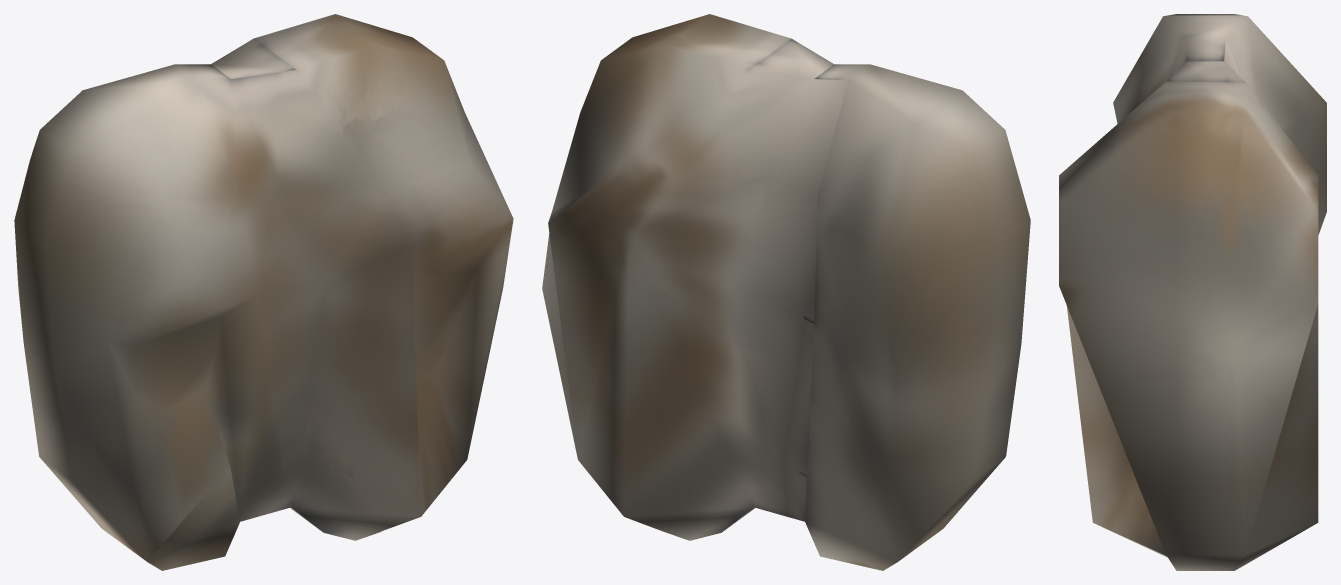
The model's file is Rock06.fbx.
3 renders of one model, left to right at view 1: azimuth 30°, elevation 25°; view 2: azimuth 150°, elevation 25°; view 3: azimuth 270°, elevation 25°, orthographic. The views are drawn at different scales.
Visible parts, largest first — view 1: Rock06; view 2: Rock06; view 3: Rock06.
Part boxes in pixels (bbox=[...]): Rock06: bbox=[14, 14, 513, 570]; Rock06: bbox=[542, 14, 1030, 570]; Rock06: bbox=[1059, 14, 1326, 570].
Size of the model in its own units: 3.7 by 3.84 by 2.04.
Materials: 1 (1 with a texture image).
